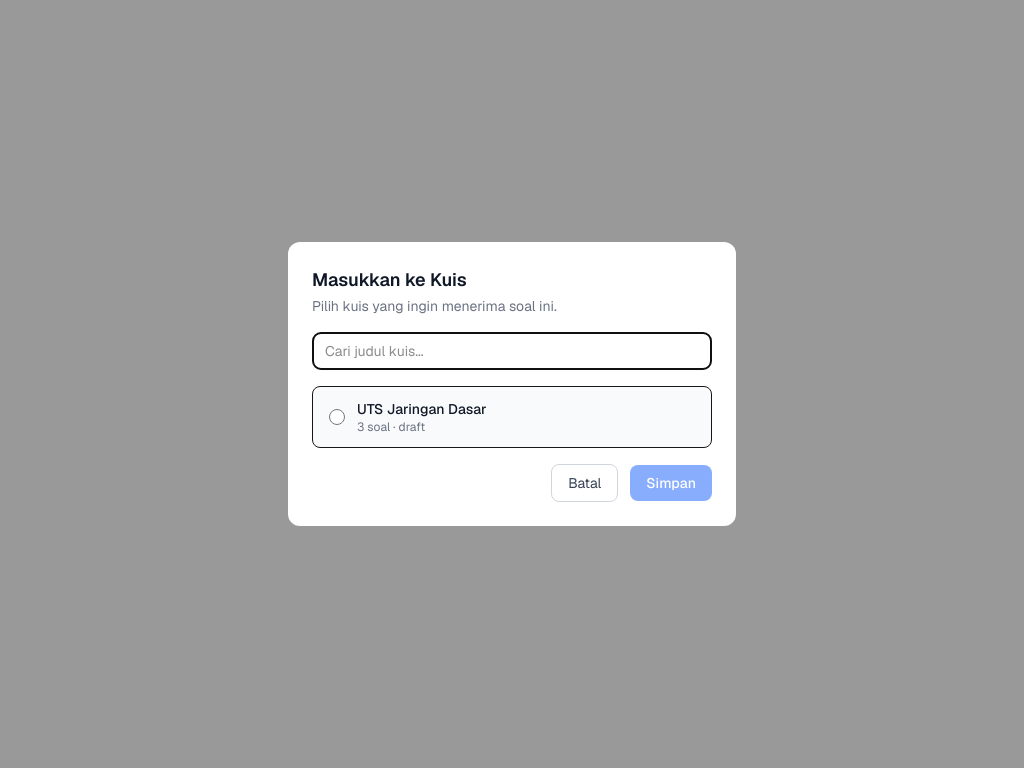
InsertIntoQuizDialog › shows the API error message when attach fails
Click the label with test id "bank-insert-option-10" at coordinates (408, 418), box left=329, top=400, right=487, bottom=435
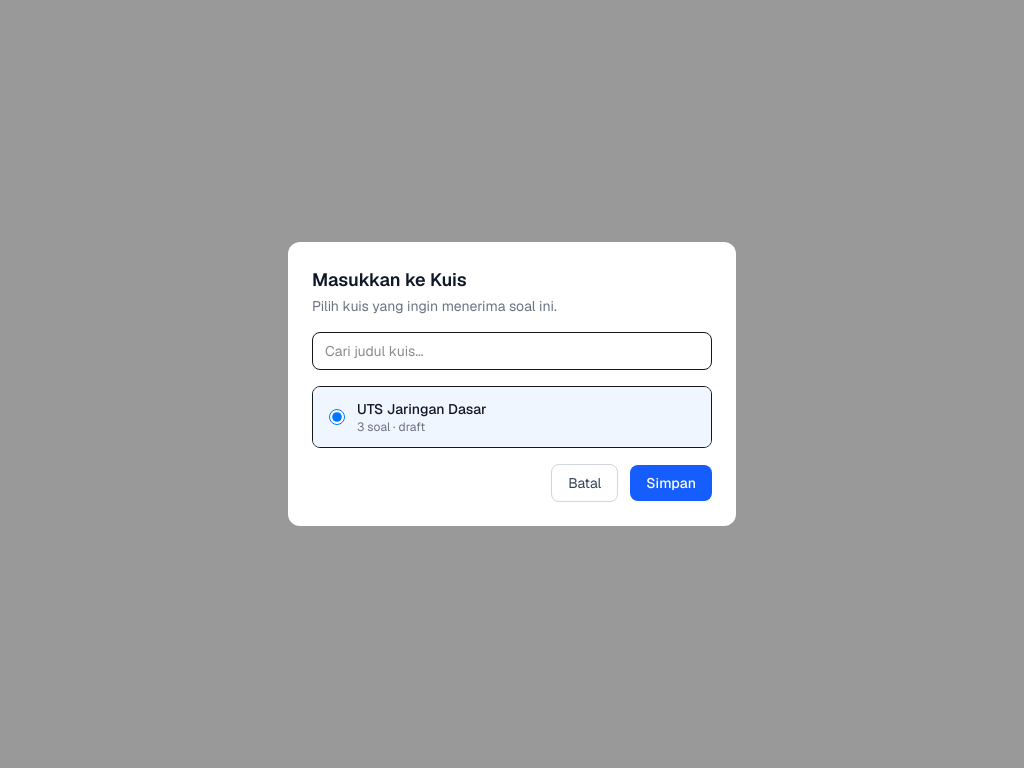
Click the button with test id "bank-insert-confirm" at coordinates (671, 483), box left=630, top=465, right=712, bottom=501
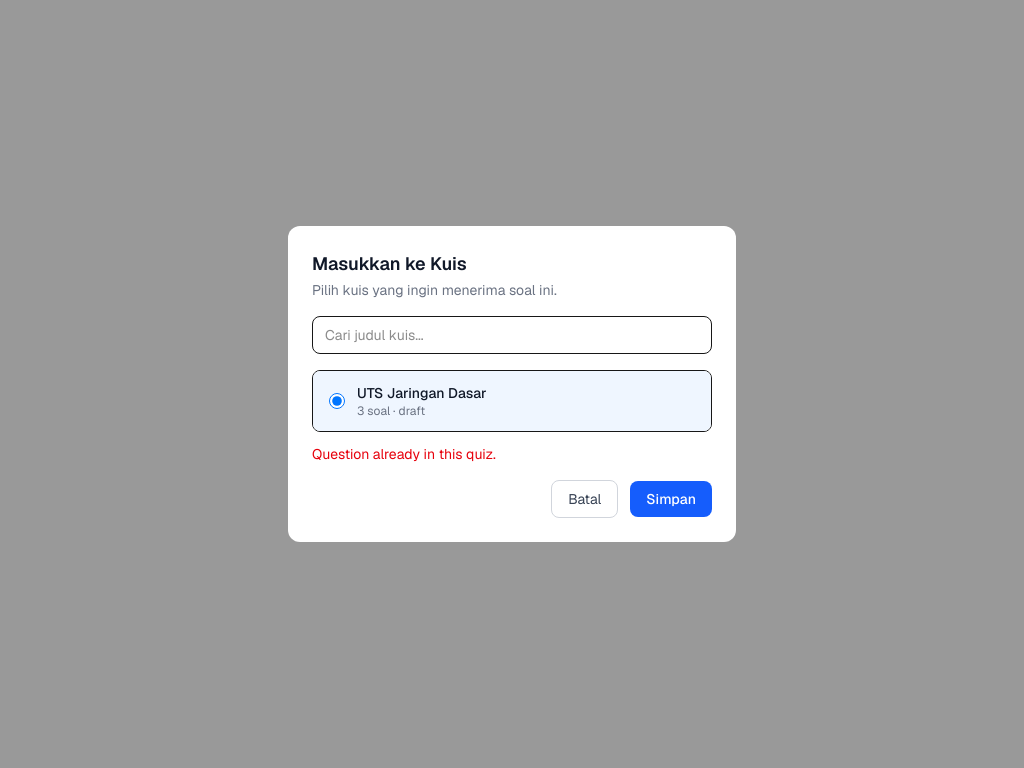
expect the text with test id "bank-insert-error" reads "Question already in this quiz.": met, box left=312, top=445, right=496, bottom=463
